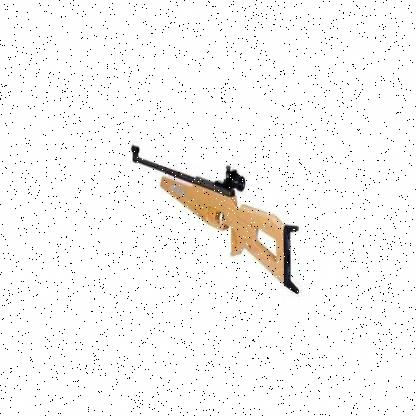rifle: (126, 131, 308, 307)
